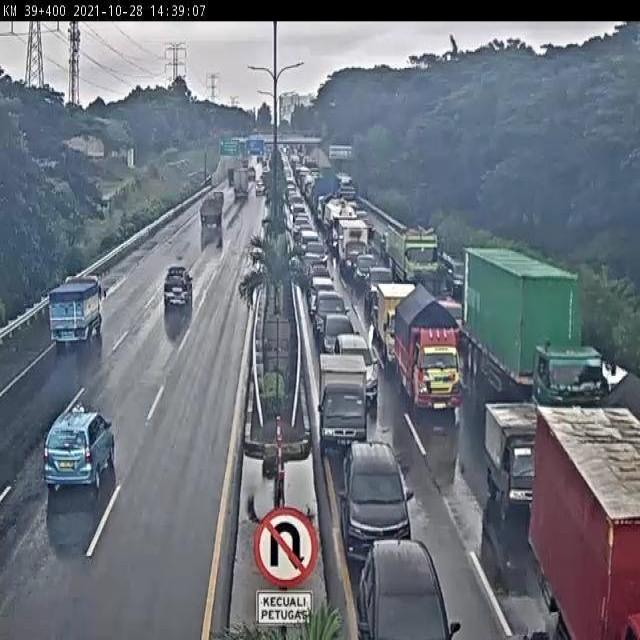big truck: (482, 268, 625, 428)
car: (322, 429, 428, 568), (346, 520, 462, 637), (36, 387, 125, 513), (488, 387, 558, 529), (332, 327, 380, 400), (162, 255, 197, 324), (322, 311, 357, 358), (316, 289, 347, 336), (365, 263, 393, 308), (352, 249, 377, 280)
small truck: (392, 293, 481, 431), (313, 348, 380, 461), (53, 261, 119, 348)
